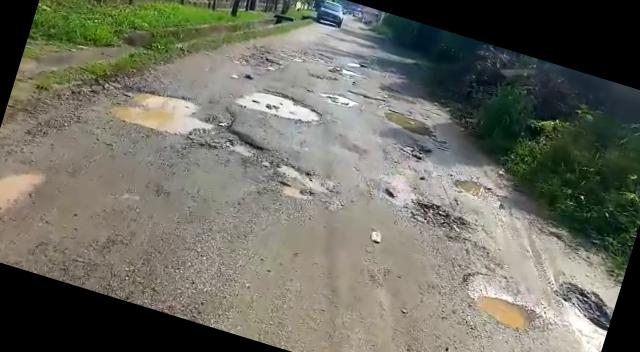pothole: (103, 72, 240, 153), (452, 264, 550, 338), (234, 80, 328, 131), (548, 276, 618, 334), (0, 157, 48, 239), (406, 194, 482, 244), (269, 160, 338, 208), (450, 172, 512, 208), (381, 108, 442, 142), (393, 136, 438, 164), (315, 85, 361, 109)
